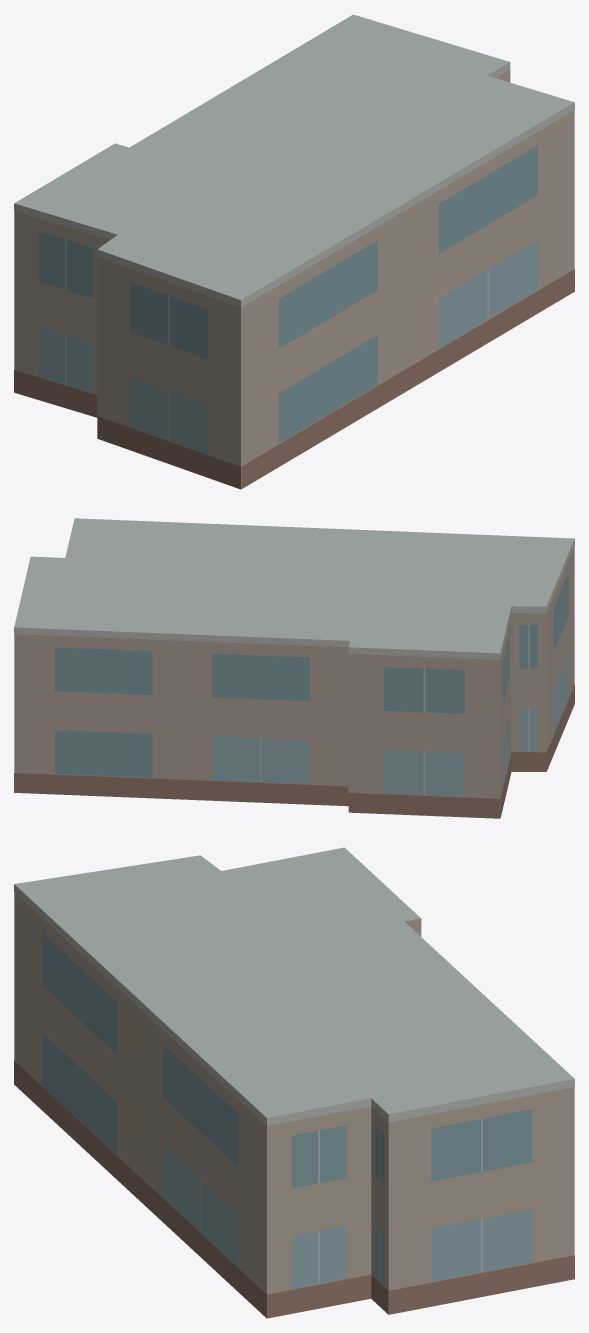
The model's file is survey-upis-32826883.glb.
The picture shows the model from 3 angles, top to bottom: view 1: azimuth 30°, elevation 25°; view 2: azimuth 150°, elevation 25°; view 3: azimuth 270°, elevation 25°; orthographic projection. The views are drawn at different scales.
Visible parts, largest first — view 1: survey-upis-32826883.tmp; view 2: survey-upis-32826883.tmp; view 3: survey-upis-32826883.tmp.
Part boxes in pixels (<box>): survey-upis-32826883.tmp: <box>14,14,574,489</box>; survey-upis-32826883.tmp: <box>14,518,574,818</box>; survey-upis-32826883.tmp: <box>14,847,574,1318</box>.
Bounding box in the file's own units: 17.69 × 6.1 × 15.48.
